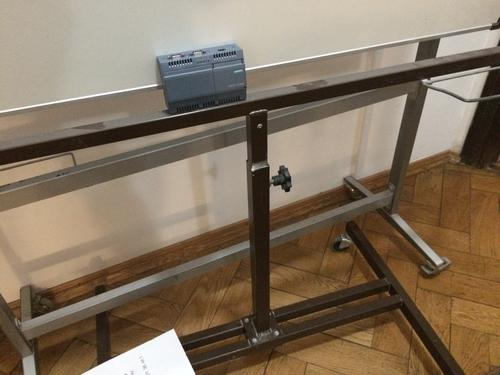iot2000: (156, 44, 248, 115)
